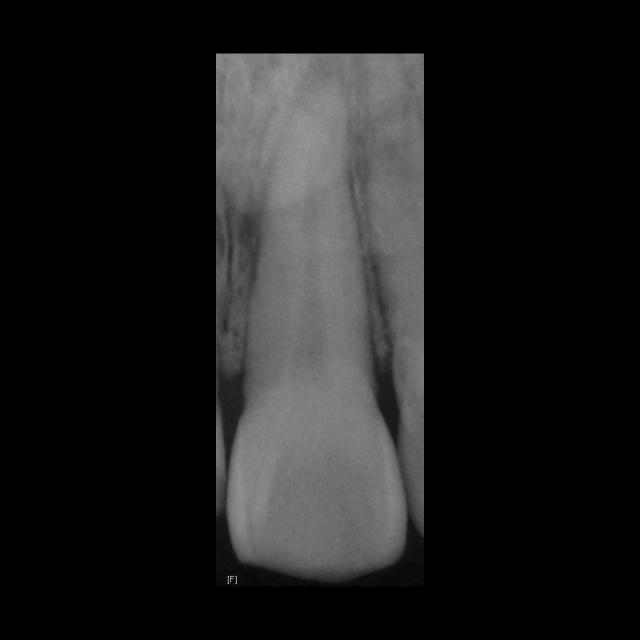tooth: (228, 71, 408, 583)
